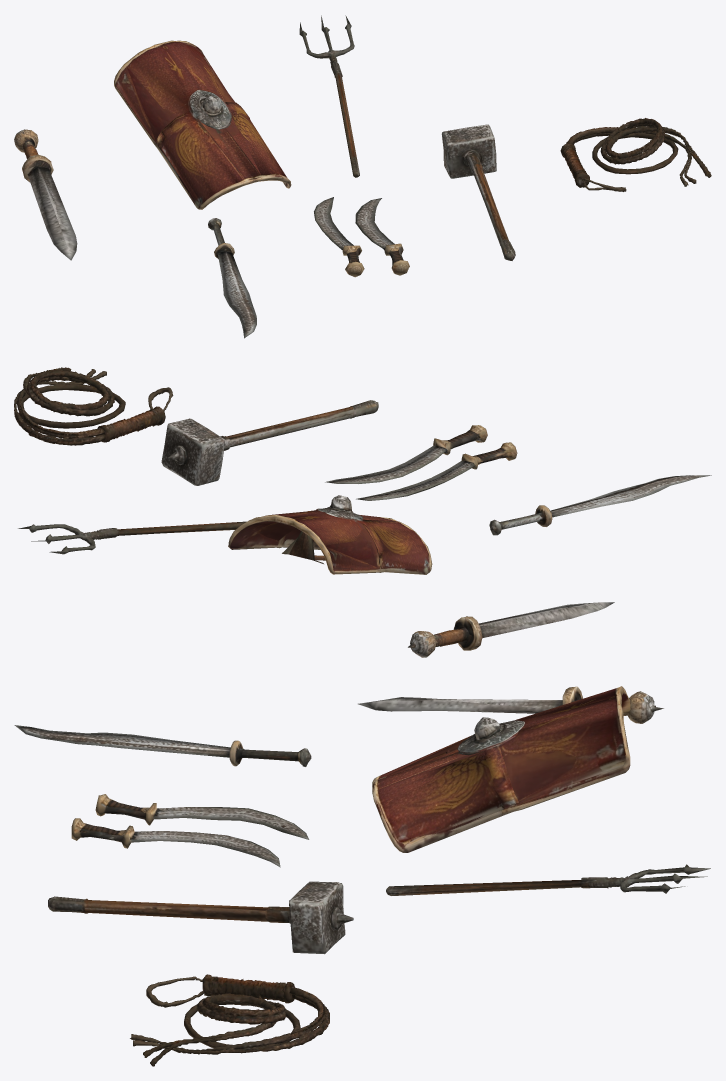
The model's file is medieval weapons 3d model (1).glb.
3 views of the same model, one above another, from view 1: azimuth 30°, elevation 25°; view 2: azimuth 150°, elevation 25°; view 3: azimuth 270°, elevation 25° (orthographic). The views are drawn at different scales.
Parts seen in each view (by area): view 1: tripo_part_25, tripo_part_22, tripo_part_8, tripo_part_18, tripo_part_28, tripo_part_2, tripo_part_20, tripo_part_7; view 2: tripo_part_25, tripo_part_22, tripo_part_8, tripo_part_18, tripo_part_28, tripo_part_2, tripo_part_20, tripo_part_7; view 3: tripo_part_25, tripo_part_22, tripo_part_8, tripo_part_28, tripo_part_18, tripo_part_2, tripo_part_7, tripo_part_20.
Part boxes in pixels (x1=…): tripo_part_25: x1=114, y1=40, x2=291, y2=209; tripo_part_22: x1=560, y1=118, x2=711, y2=191; tripo_part_8: x1=441, y1=124, x2=515, y2=260; tripo_part_18: x1=14, y1=129, x2=77, y2=260; tripo_part_28: x1=208, y1=218, x2=256, y2=338; tripo_part_2: x1=299, y1=15, x2=359, y2=177; tripo_part_20: x1=355, y1=198, x2=409, y2=275; tripo_part_7: x1=314, y1=197, x2=364, y2=277; tripo_part_25: x1=228, y1=495, x2=432, y2=574; tripo_part_22: x1=14, y1=367, x2=173, y2=445; tripo_part_8: x1=161, y1=400, x2=378, y2=485; tripo_part_18: x1=408, y1=602, x2=614, y2=657; tripo_part_28: x1=489, y1=475, x2=711, y2=535; tripo_part_2: x1=18, y1=521, x2=246, y2=554; tripo_part_20: x1=325, y1=425, x2=487, y2=483; tripo_part_7: x1=356, y1=442, x2=517, y2=500; tripo_part_25: x1=372, y1=686, x2=630, y2=852; tripo_part_22: x1=130, y1=974, x2=329, y2=1066; tripo_part_8: x1=48, y1=881, x2=353, y2=954; tripo_part_28: x1=14, y1=725, x2=311, y2=766; tripo_part_18: x1=358, y1=686, x2=663, y2=723; tripo_part_2: x1=386, y1=864, x2=710, y2=895; tripo_part_7: x1=95, y1=794, x2=309, y2=839; tripo_part_20: x1=71, y1=818, x2=280, y2=867.
Size of the model in its own units: 1 by 0.1683 by 0.8043.
8 materials, 8 textured.
